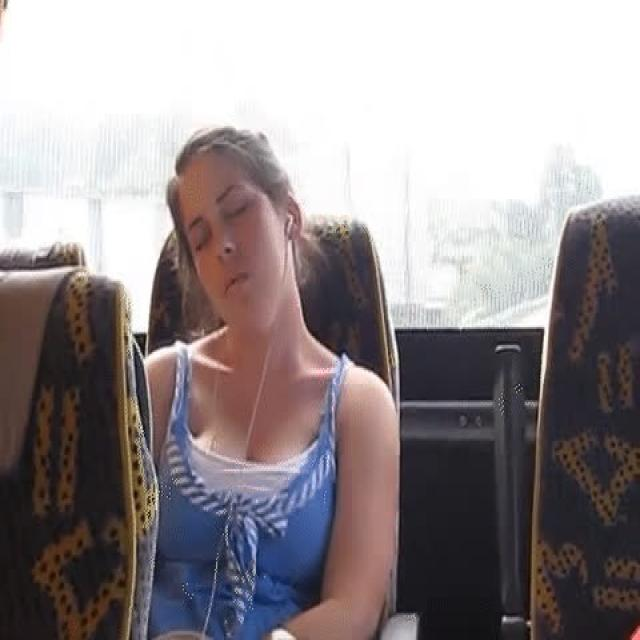no-seatbelt: (169, 132, 305, 334)
